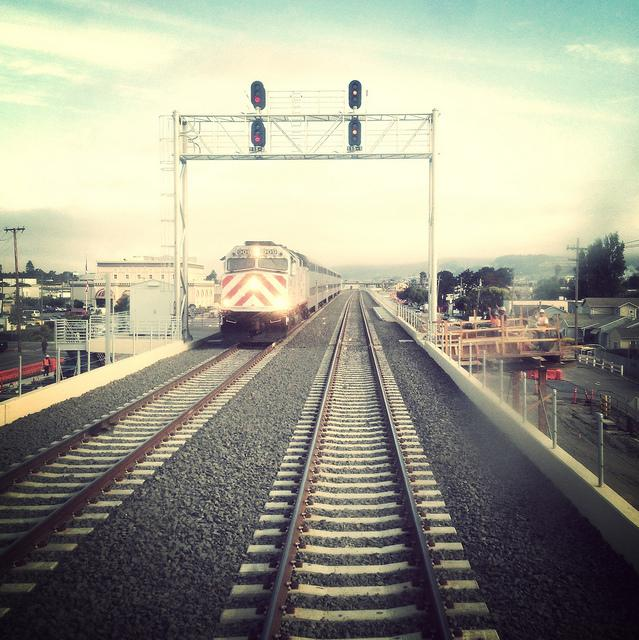Train: (208, 234, 351, 351)
